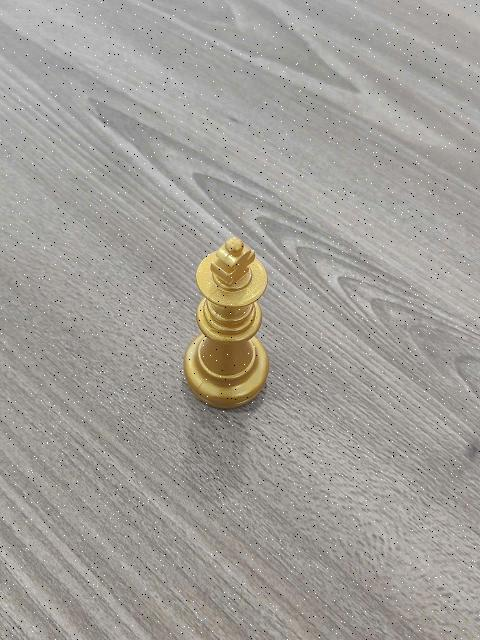black_king: (184, 235, 274, 412)
